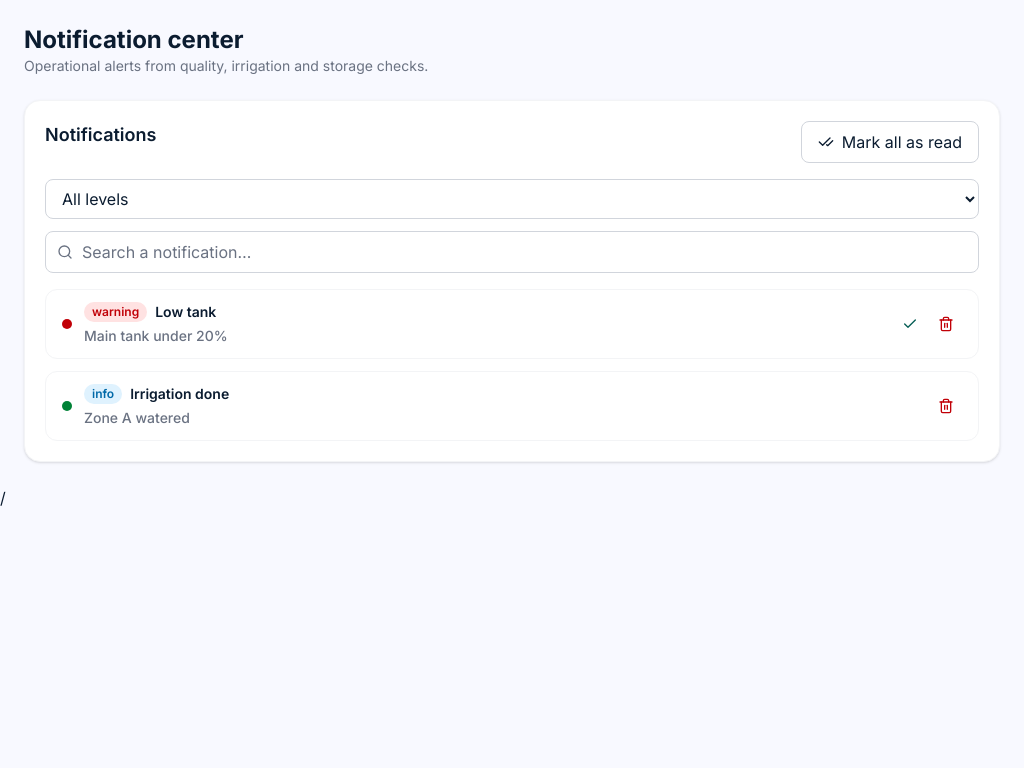
Test case: NotificationsView › keeps the notification when the dialog is cancelled
Expected: the text "Low tank" is shown, x1=155 y1=303 x2=216 y2=320
Click the button named "Delete" in the row of "warning".
click(946, 324)  # box x1=930 y1=308 x2=962 y2=340
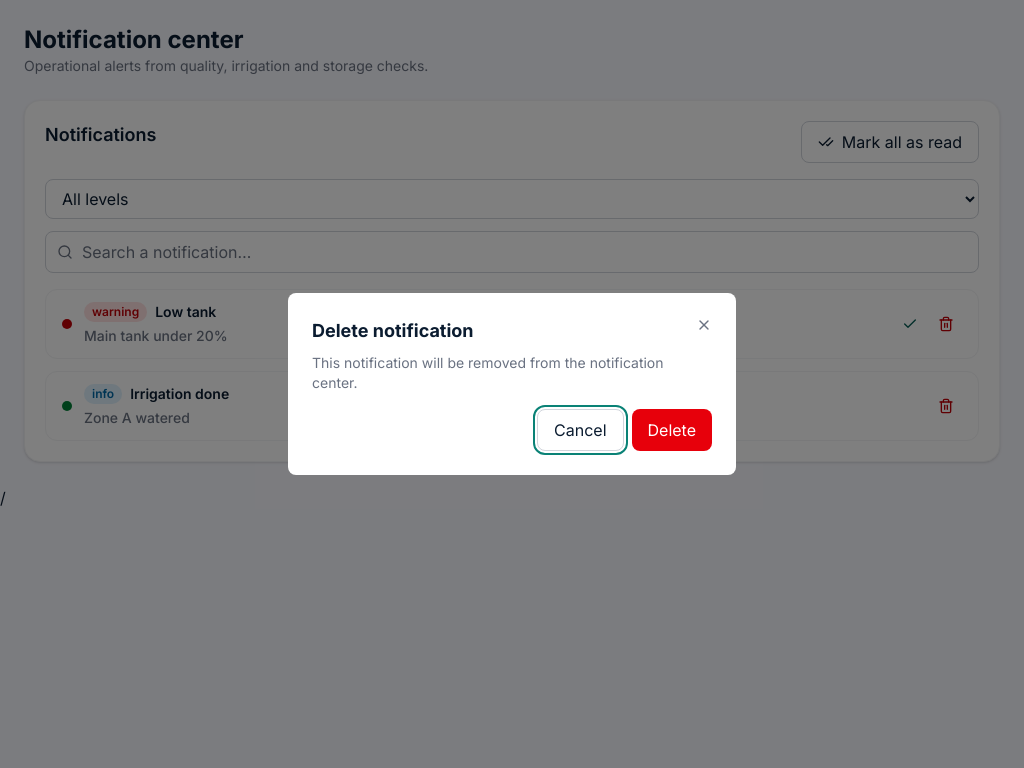
Click the button "Cancel".
click(580, 430)  # box x1=537 y1=409 x2=624 y2=451
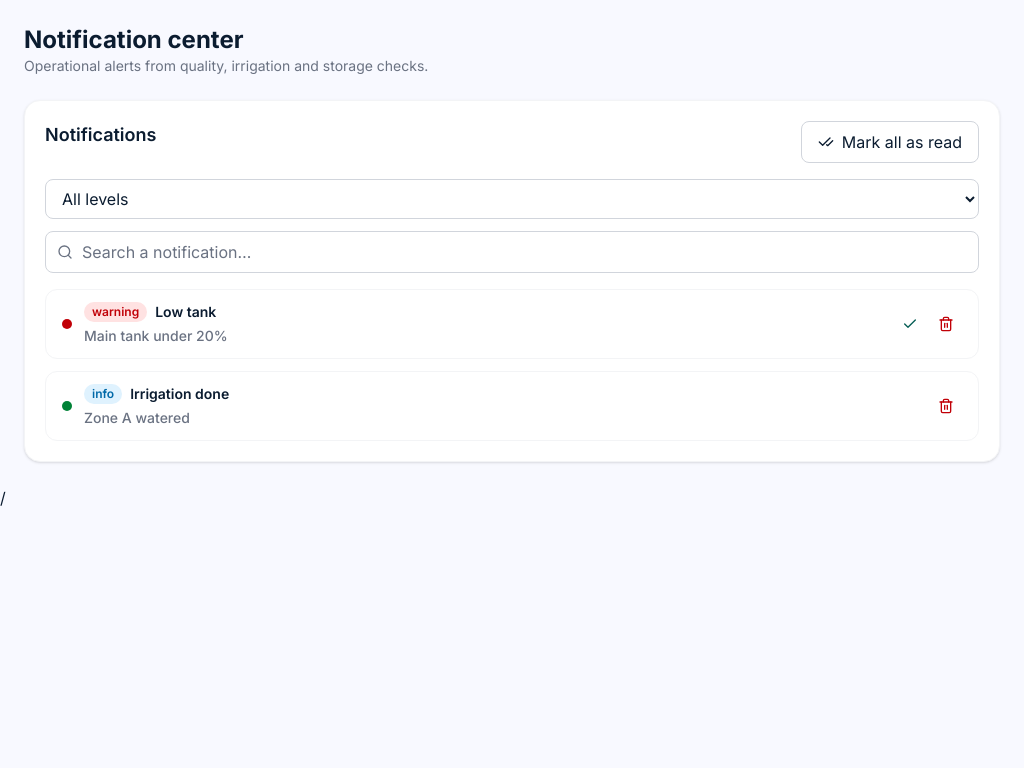
Expected: the dialog is gone
